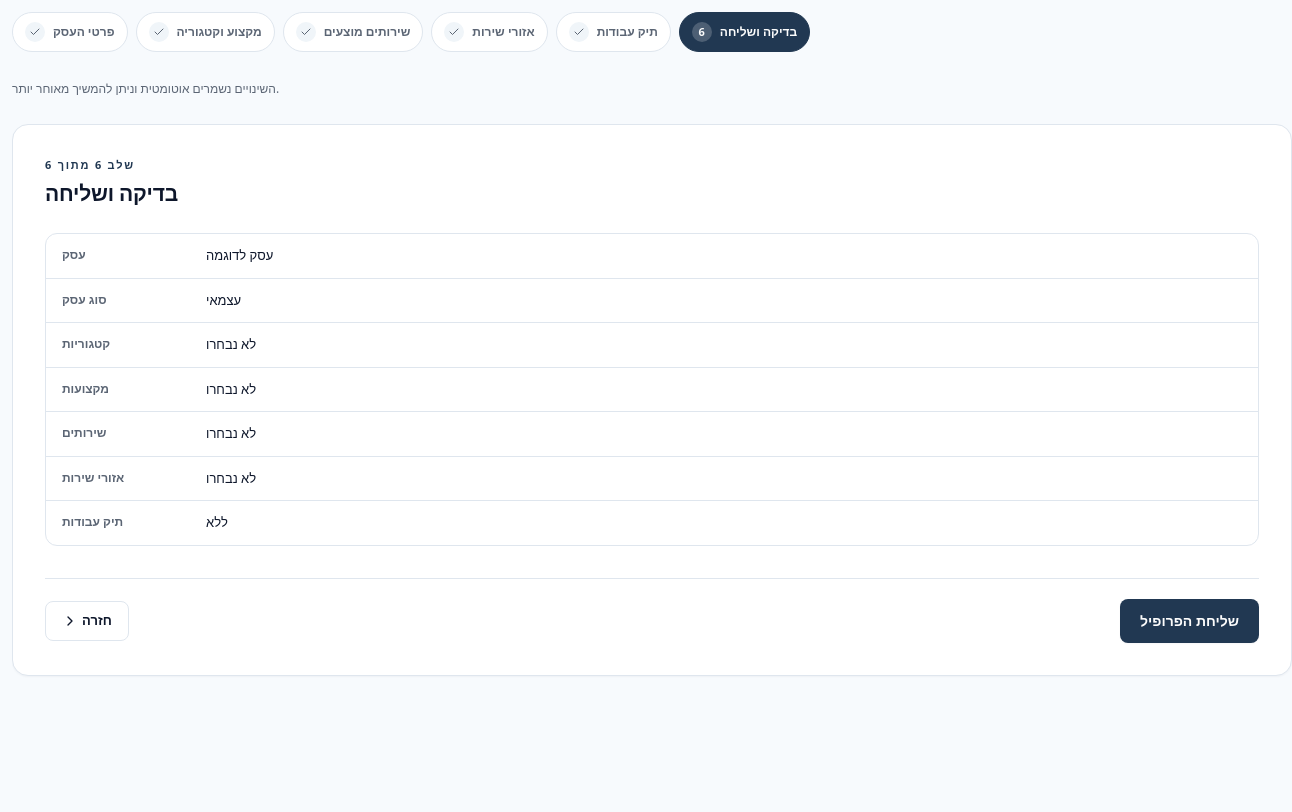
SupplierOnboardingWizard stage validation › shows the backend diagnostic when final submission fails
Click the button "שליחת הפרופיל" at (1190, 620), box [1120,598,1259,642]
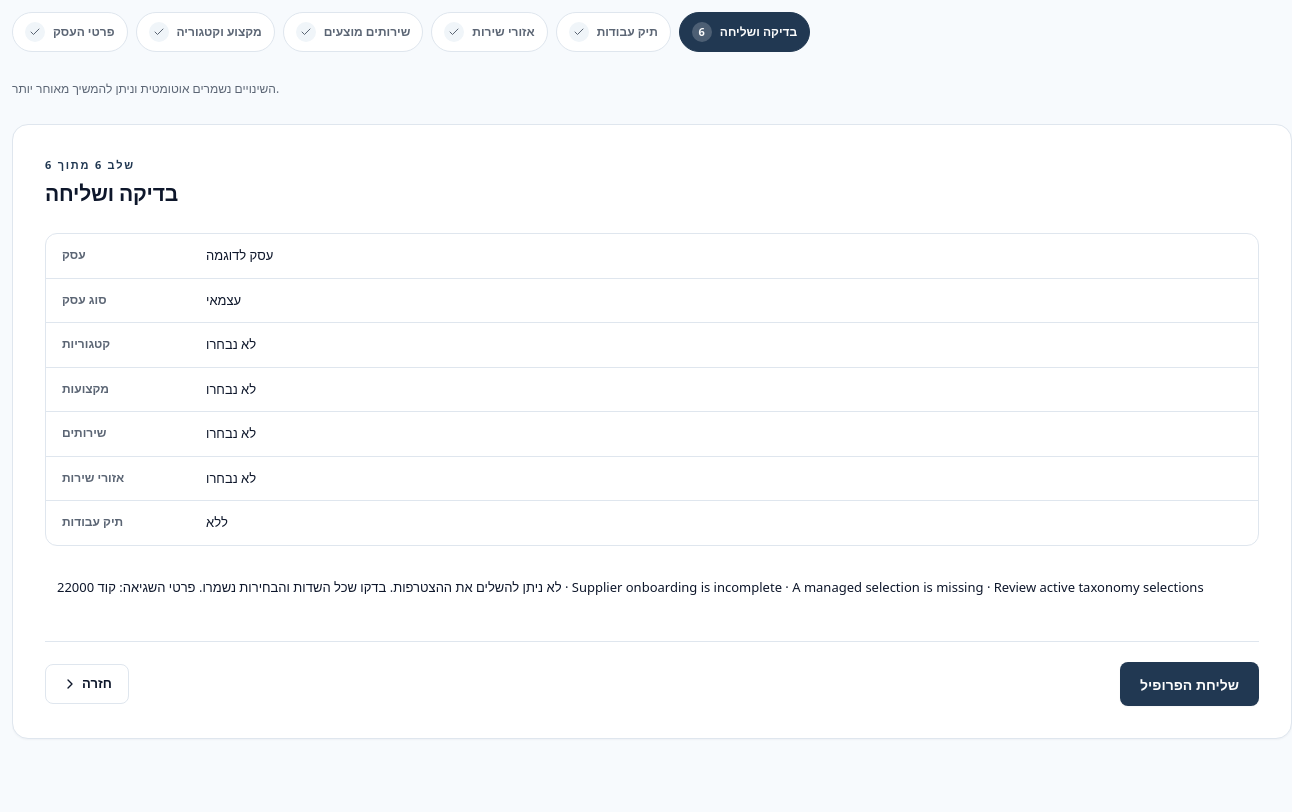
Expected: the message shows "קוד 22000", [57,578,1204,596]
Expected: the message shows "Supplier onboarding is incomplete", [57,578,1204,596]
Expected: the message shows "A managed selection is missing", [57,578,1204,596]
